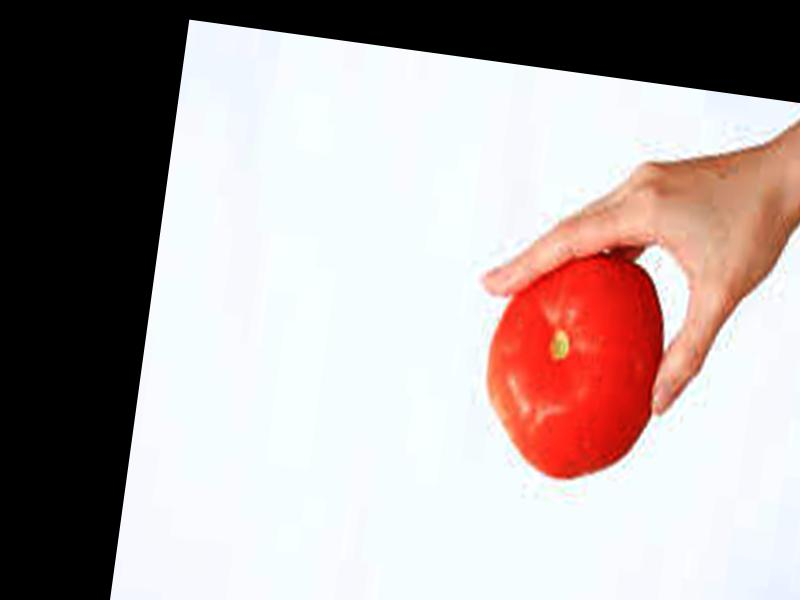Tomato: (473, 245, 673, 488)
